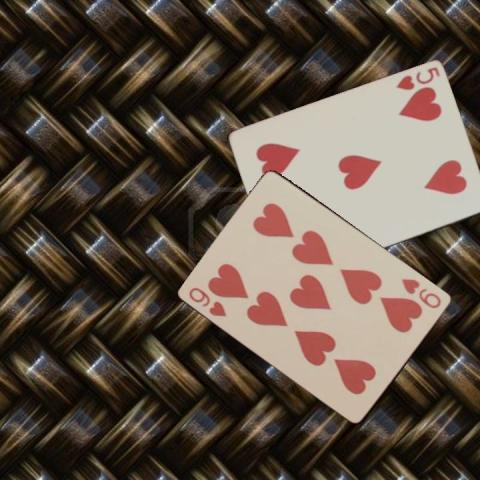5h: (393, 64, 441, 92)
9h: (399, 275, 443, 310), (186, 284, 229, 318)
